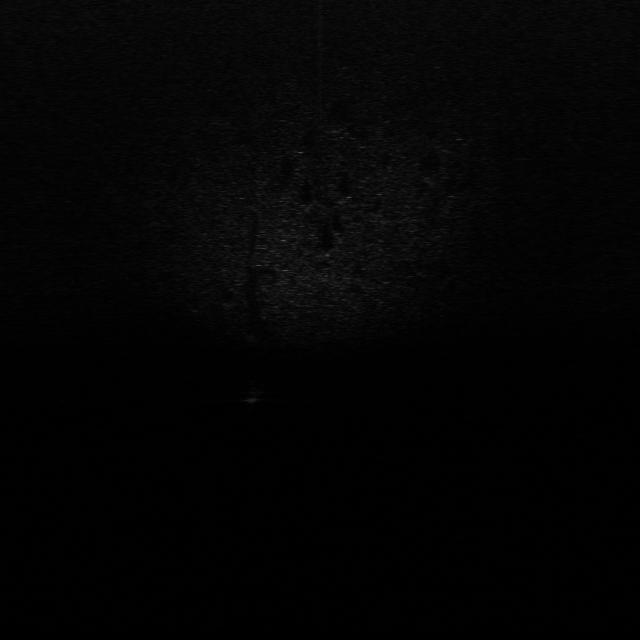human body: (242, 376, 269, 414)
